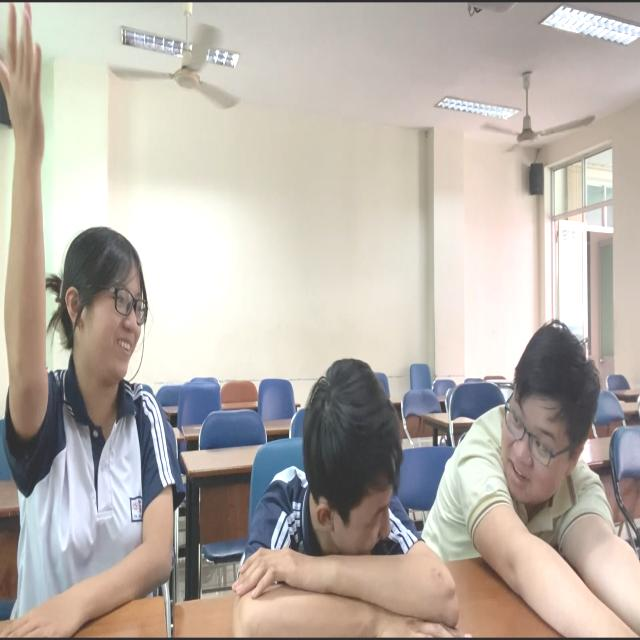raise_hand: (1, 1, 151, 640)
sleep: (231, 354, 454, 640)
